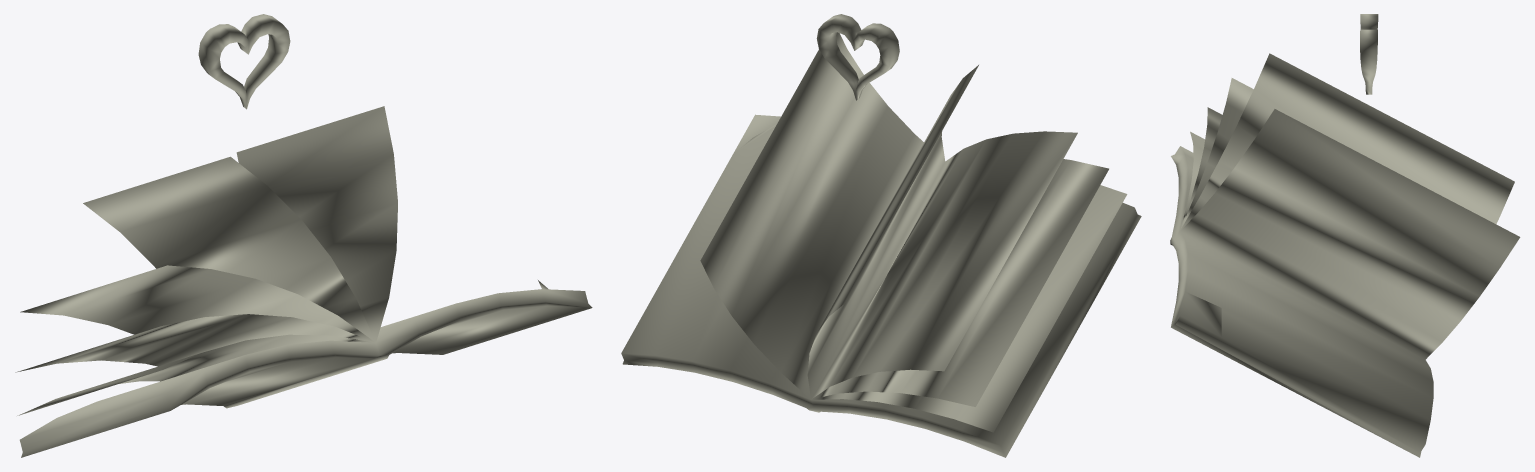
Rendered from icon.ico.obj.
3 renders of one model, left to right at view 1: azimuth 30°, elevation 25°; view 2: azimuth 150°, elevation 25°; view 3: azimuth 270°, elevation 25°, orthographic. The views are drawn at different scales.
Bounding box in the file's own units: 4.97 × 4.62 × 4.29.
